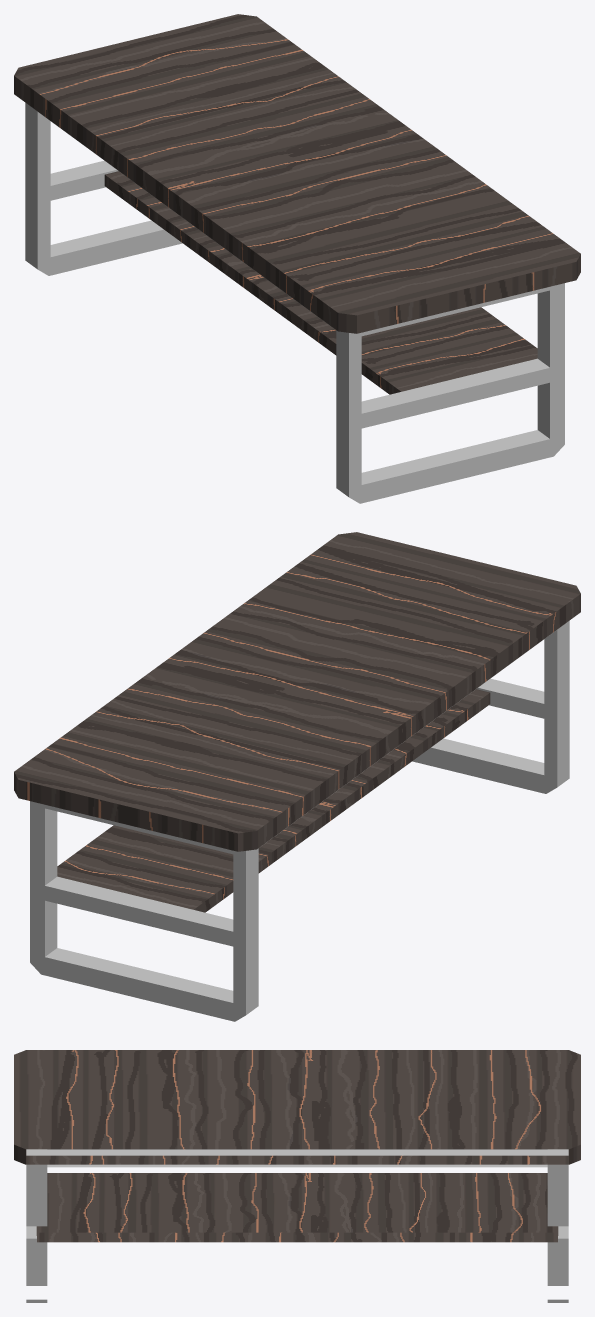
Rendered from desk.fbx.
The picture shows the model from 3 angles, top to bottom: view 1: azimuth 30°, elevation 25°; view 2: azimuth 150°, elevation 25°; view 3: azimuth 270°, elevation 25°; orthographic projection. The views are drawn at different scales.
Parts seen in each view (by area): view 1: desk; view 2: desk; view 3: desk.
Boxes of the visible parts, x1,y1,x2,y2 form: desk: (14,14,580,503); desk: (14,532,580,1021); desk: (14,1050,580,1302).
Size of the model in its own units: 2.95 by 2.28 by 7.13.
